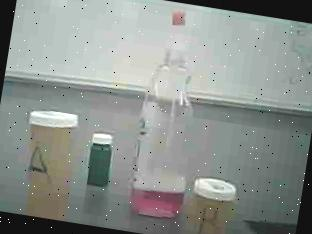Bottle A: (5, 92, 90, 222)
Bottle B: (182, 160, 245, 234)
Bottle C: (80, 121, 123, 199)
hazard: (116, 1, 216, 233)
